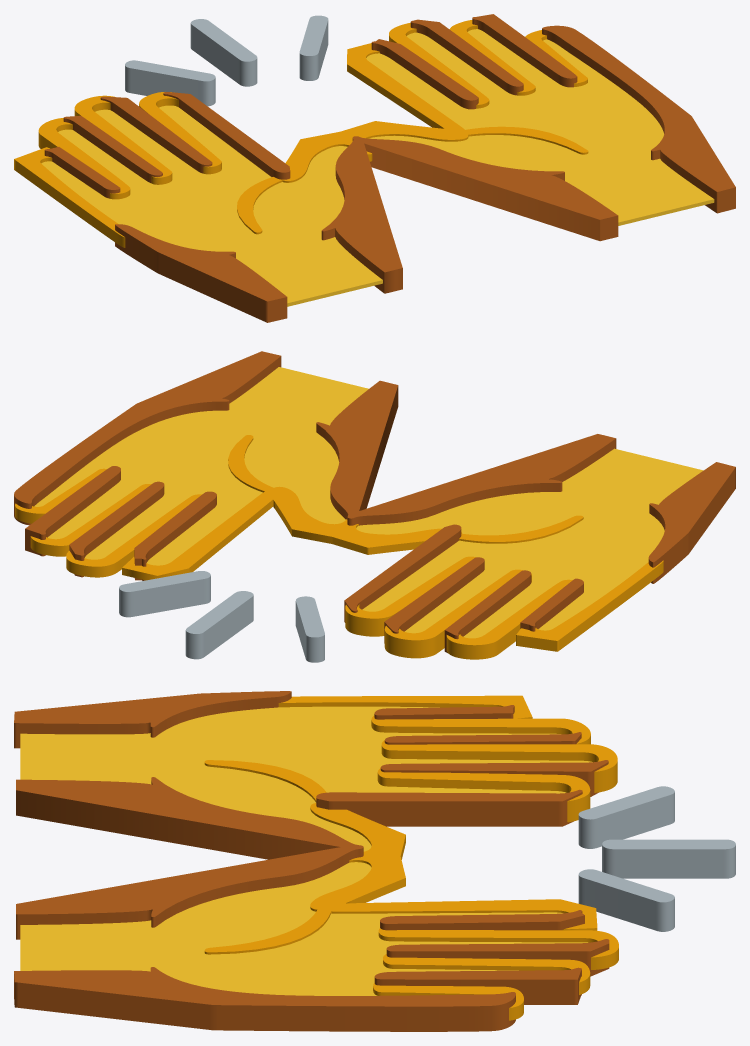
Rendered from emoji_u1f64c.glb.
3 views of the same model, one above another, from view 1: azimuth 30°, elevation 25°; view 2: azimuth 150°, elevation 25°; view 3: azimuth 270°, elevation 25° (orthographic). The views are drawn at different scales.
Parts seen in each view (by area): view 1: emoji_u1f64c; view 2: emoji_u1f64c; view 3: emoji_u1f64c.
Part boxes in pixels (x1=…): emoji_u1f64c: x1=14, y1=14, x2=735, y2=322; emoji_u1f64c: x1=14, y1=351, x2=735, y2=662; emoji_u1f64c: x1=14, y1=691, x2=735, y2=1031.
Bounding box in the file's own units: 0.0322 × 0.0014 × 0.031.
